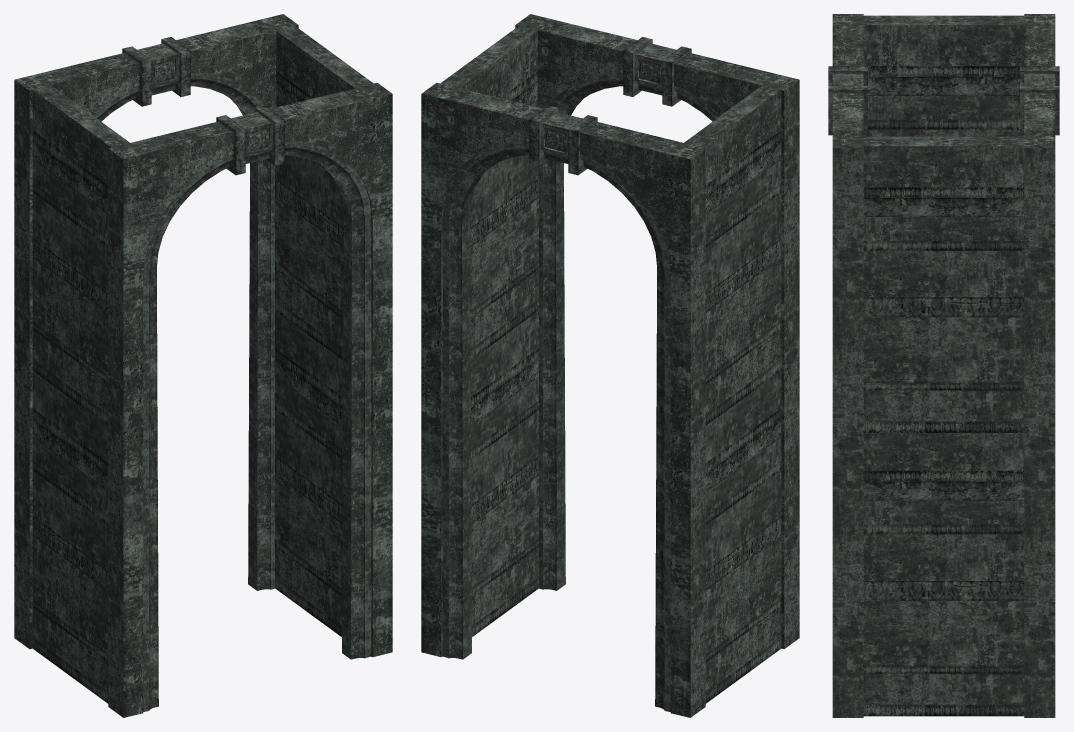
Rendered from mg_9_pillar_6.fbx.
3 renders of one model, left to right at view 1: azimuth 30°, elevation 25°; view 2: azimuth 150°, elevation 25°; view 3: azimuth 270°, elevation 25°, orthographic. The views are drawn at different scales.
Parts seen in each view (by area): view 1: mg_9_pillar_6; view 2: mg_9_pillar_6; view 3: mg_9_pillar_6.
Boxes of the visible parts, <box> form: mg_9_pillar_6: <box>14,14,392,717</box>; mg_9_pillar_6: <box>421,14,799,717</box>; mg_9_pillar_6: <box>828,14,1059,717</box>.
Bounding box in the file's own units: 797 × 1588 × 581.
